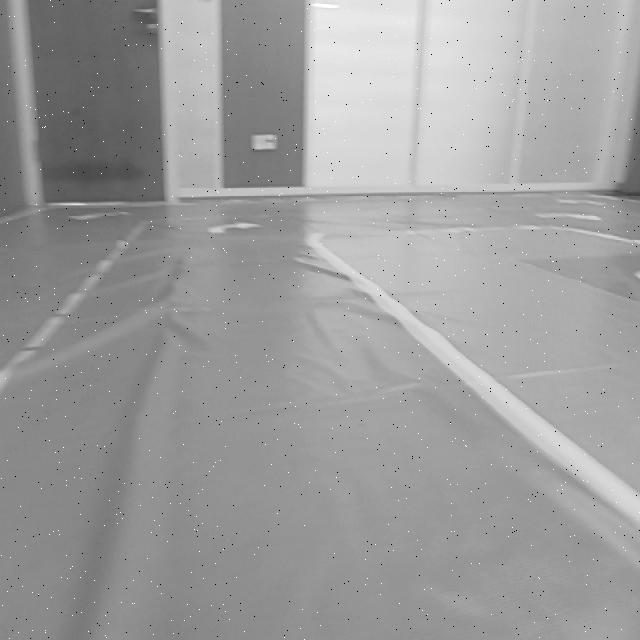left_lane: (0, 222, 146, 394)
right_lane: (307, 242, 640, 528)
